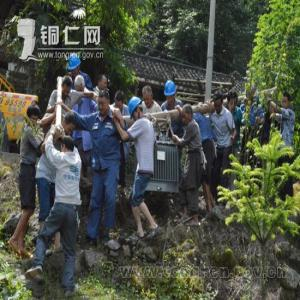blue: (129, 95, 145, 122), (67, 54, 82, 79), (164, 81, 177, 104)
none: (26, 104, 40, 128), (63, 112, 76, 137), (98, 90, 111, 114), (61, 135, 76, 155), (142, 85, 154, 109), (213, 91, 225, 113), (62, 77, 74, 98), (75, 74, 87, 95), (97, 73, 110, 92), (115, 90, 126, 112), (227, 90, 239, 110), (183, 105, 194, 126), (281, 90, 292, 111)
